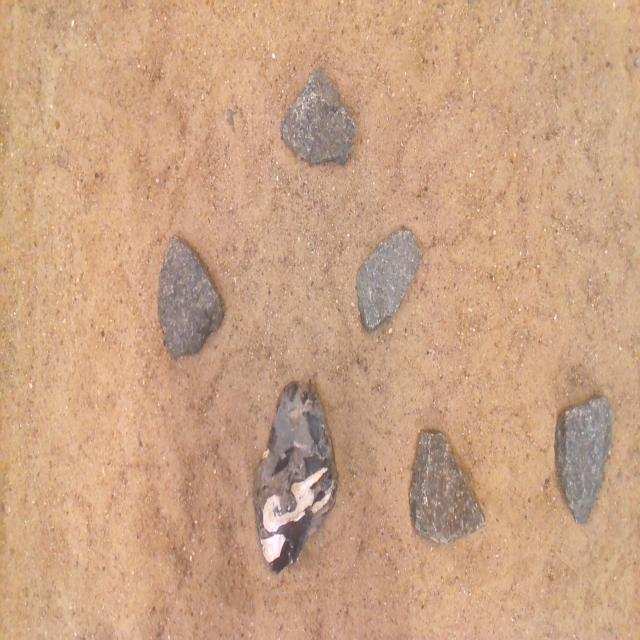rock: (253, 382, 337, 572), (409, 431, 484, 542), (157, 236, 223, 358), (555, 396, 612, 523), (281, 69, 356, 164), (357, 230, 420, 329)
